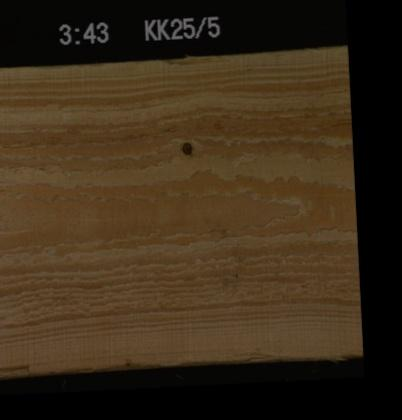dry_knot: (178, 139, 192, 154)
wave: (82, 353, 361, 368), (155, 55, 229, 62)
